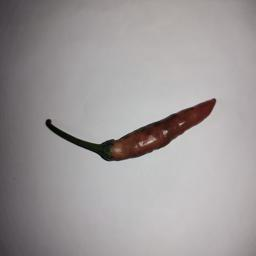Buah Cabai Sehat: (99, 96, 217, 162)
